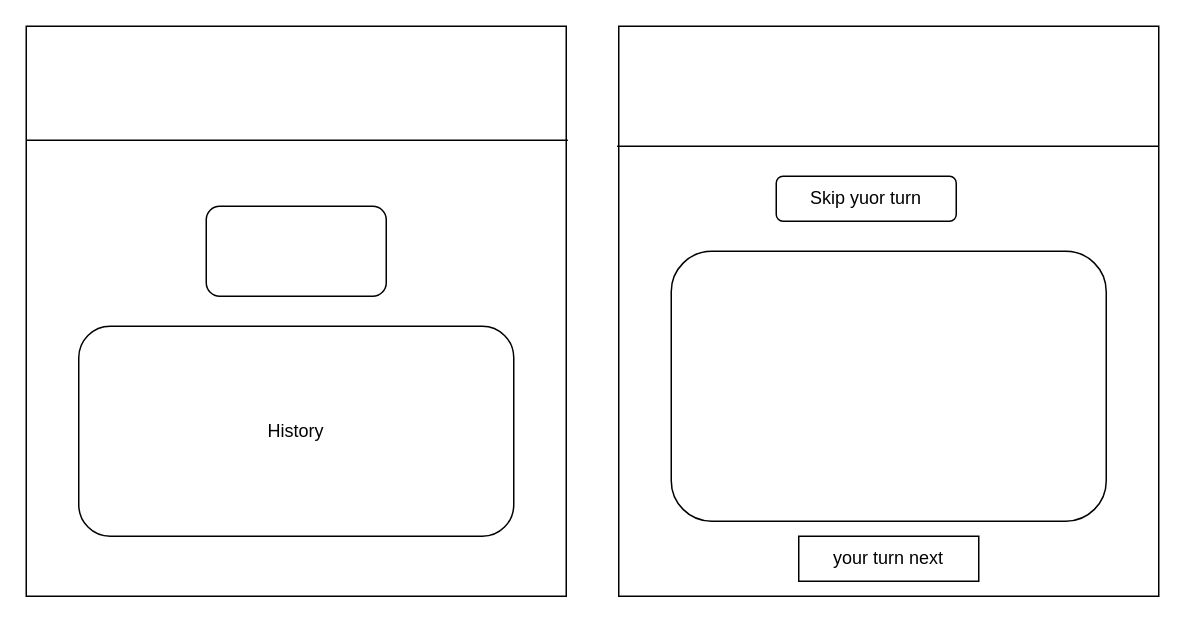
Some shapes in this 1187 by 623 pixel diagram are drawn without their labels. The shapes that lost their labels are listed below. From the top down, each one's centre as x and y in pixels, then its label:
pixel 295 250: Start a mtach
pixel 888 385: a board
